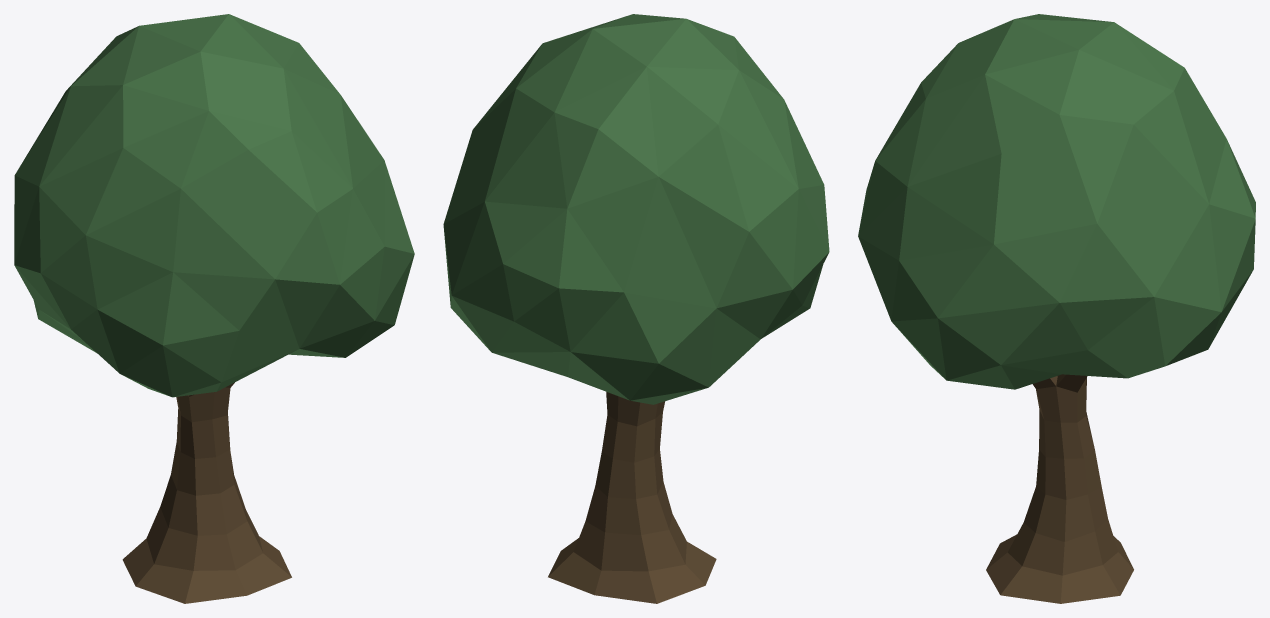
Rendered from tree01.fbx.
3 renders of one model, left to right at view 1: azimuth 30°, elevation 25°; view 2: azimuth 150°, elevation 25°; view 3: azimuth 270°, elevation 25°, orthographic.
Parts seen in each view (by area): view 1: polySurface16, polySurface17; view 2: polySurface16, polySurface17; view 3: polySurface16, polySurface17.
Part boxes in pixels (x1=…): polySurface16: x1=14, y1=14, x2=414, y2=397; polySurface17: x1=122, y1=382, x2=291, y2=603; polySurface16: x1=443, y1=14, x2=829, y2=404; polySurface17: x1=548, y1=392, x2=716, y2=603; polySurface16: x1=858, y1=14, x2=1255, y2=389; polySurface17: x1=986, y1=374, x2=1133, y2=603.
Bounding box in the file's own units: 135 × 200 × 134.
